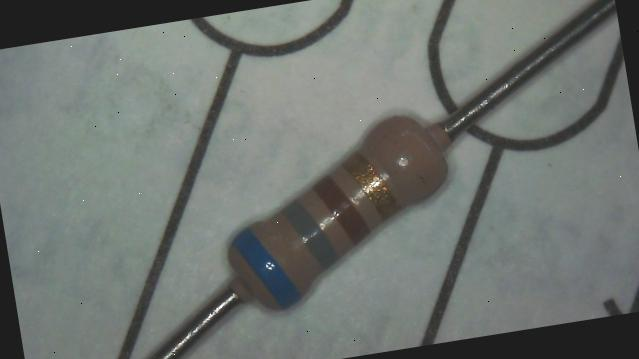blue: (228, 220, 303, 314)
brown: (312, 170, 371, 248)
gold: (342, 146, 401, 222)
grey: (282, 194, 340, 274)
resistor: (183, 81, 470, 334)
